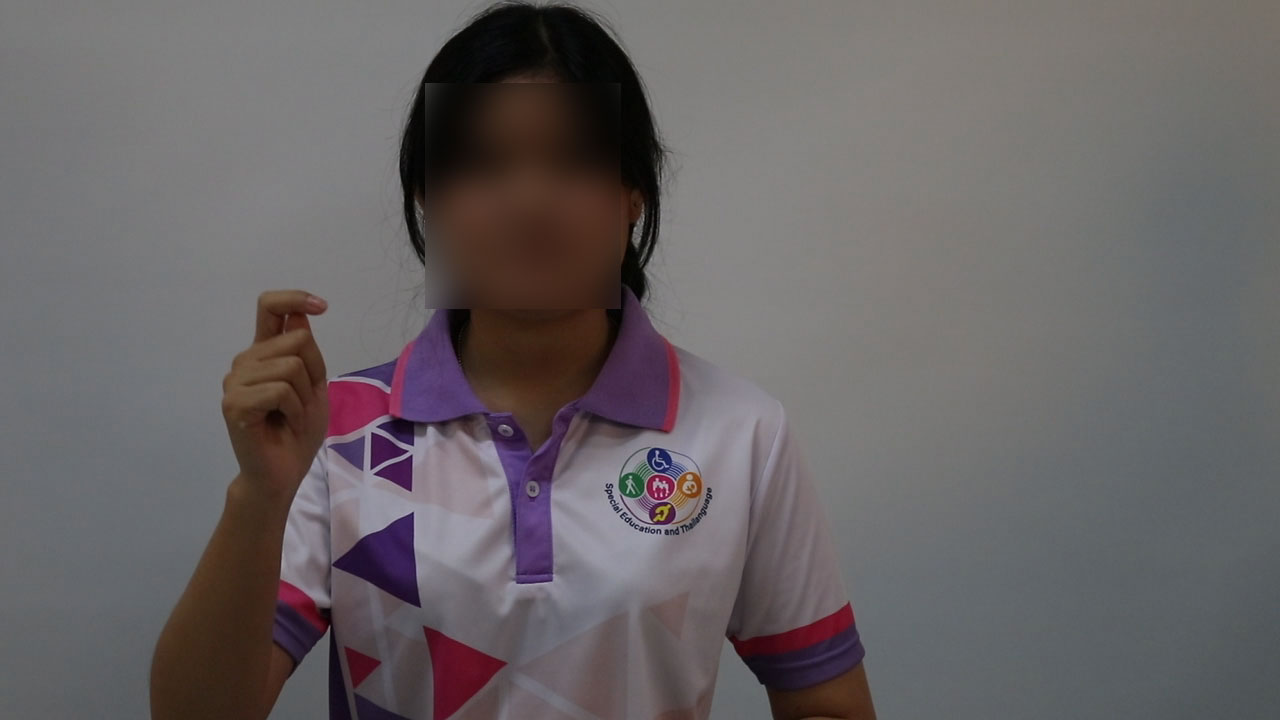or: (213, 279, 348, 503)
